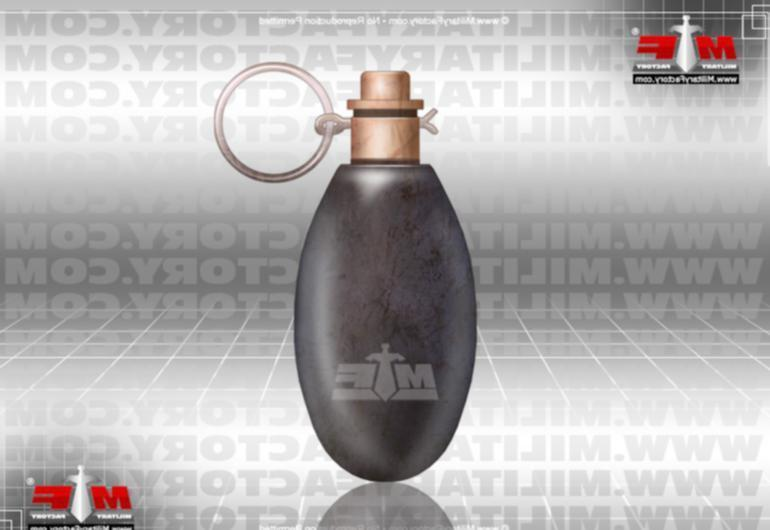Grenade: (213, 60, 478, 483)
